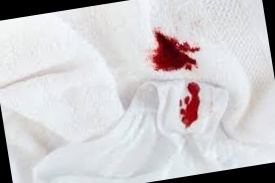blood: (147, 24, 199, 77), (178, 83, 203, 127)
